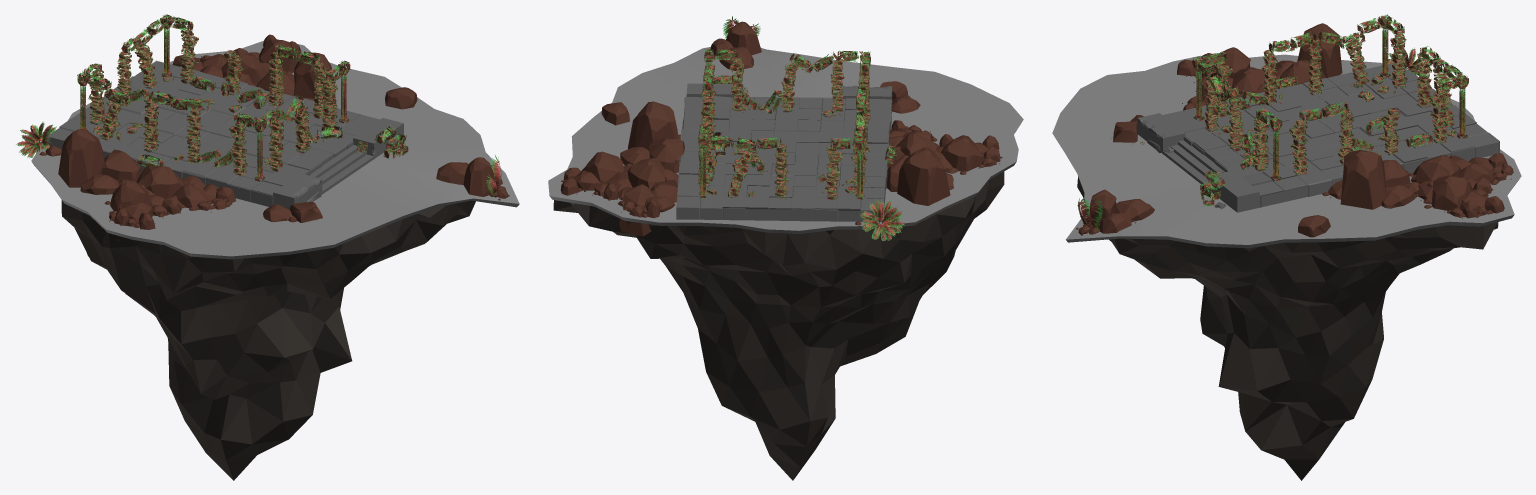
Rendered from Asteroid_Big_Ruin.fbx.
3 renders of one model, left to right at view 1: azimuth 30°, elevation 25°; view 2: azimuth 150°, elevation 25°; view 3: azimuth 270°, elevation 25°, orthographic. The views are drawn at different scales.
Parts seen in each view (by area): view 1: Plane_1; view 2: Plane_1; view 3: Plane_1.
Boxes of the visible parts, x1,y1,x2,y2 form: Plane_1: (16, 14, 519, 480); Plane_1: (548, 16, 1023, 480); Plane_1: (1052, 14, 1521, 480).
Bounding box in the file's own units: 150 × 150 × 156.
Materials: 6 (2 with a texture image).
